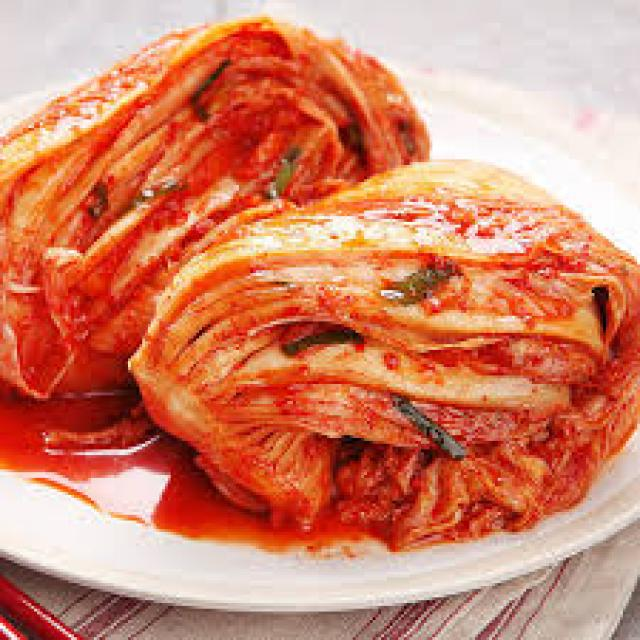kimchi: (145, 174, 575, 520)
